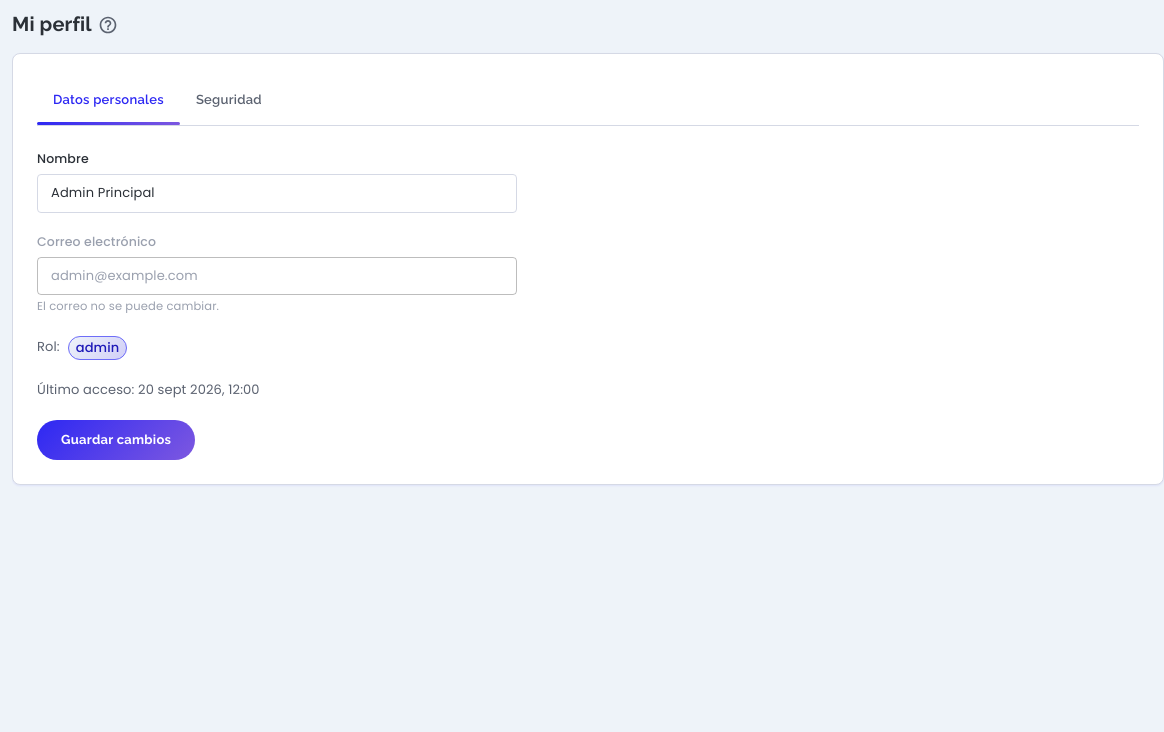
Scenario: <ProfilePage /> › edita el nombre y actualiza la sesión
The image size is (1164, 732).
Replace the text in the field labelled "Nombre" with "Nombre Nuevo" at x=277, y=193, box [37,174,517,213]
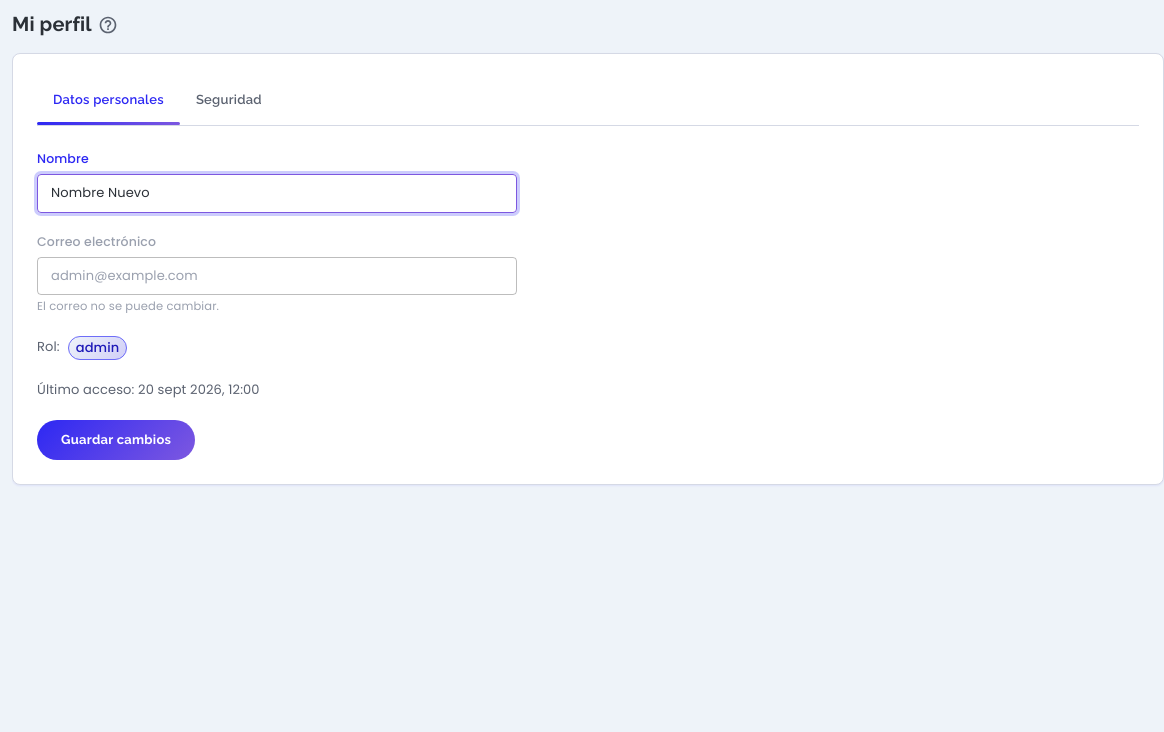
Click the button "Guardar cambios" at x=116, y=440, box [37,420,195,460]
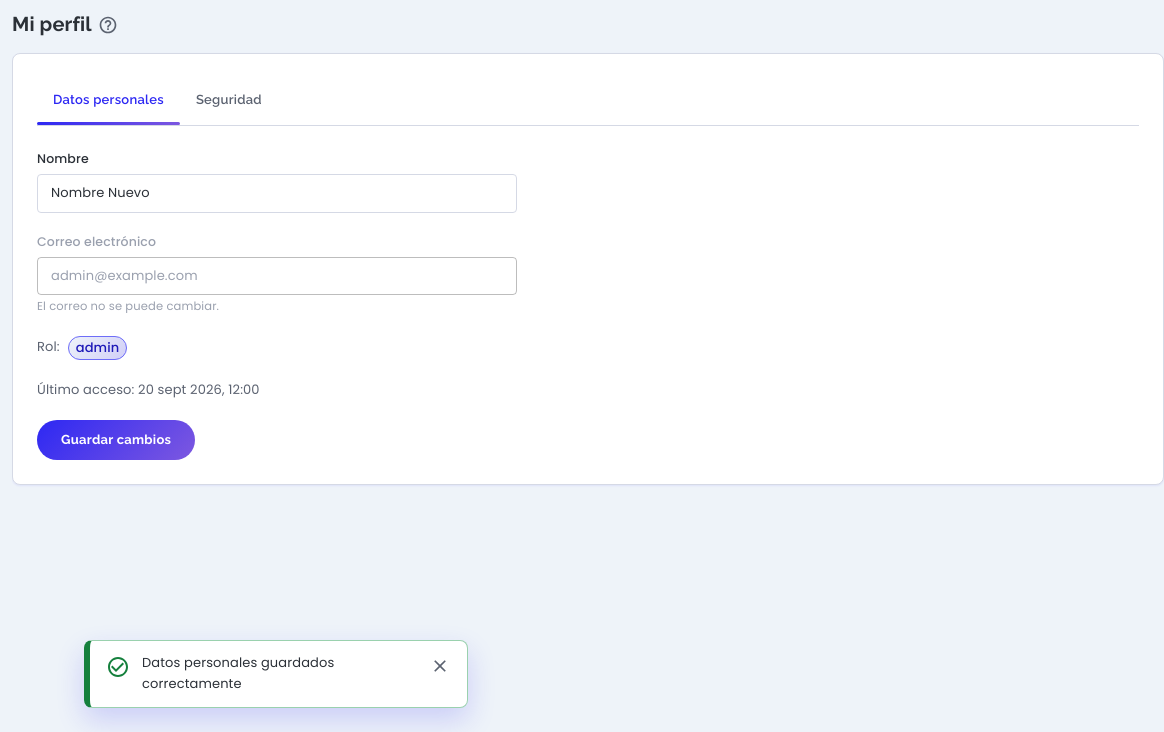
Check: the text "Datos personales guardados correctamente" is shown, box [142,653,334,693]
